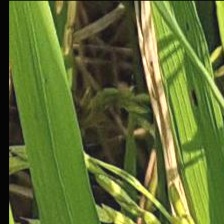Leaf_Blast: (136, 5, 182, 204)
